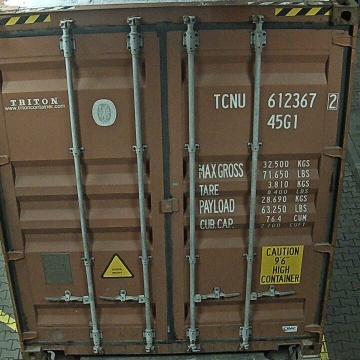serial_id: (213, 91, 338, 110)
